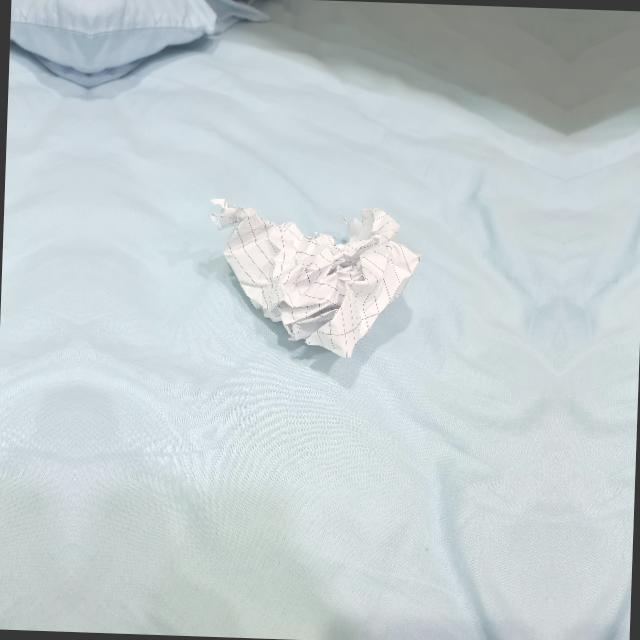paper: (210, 200, 414, 357)
